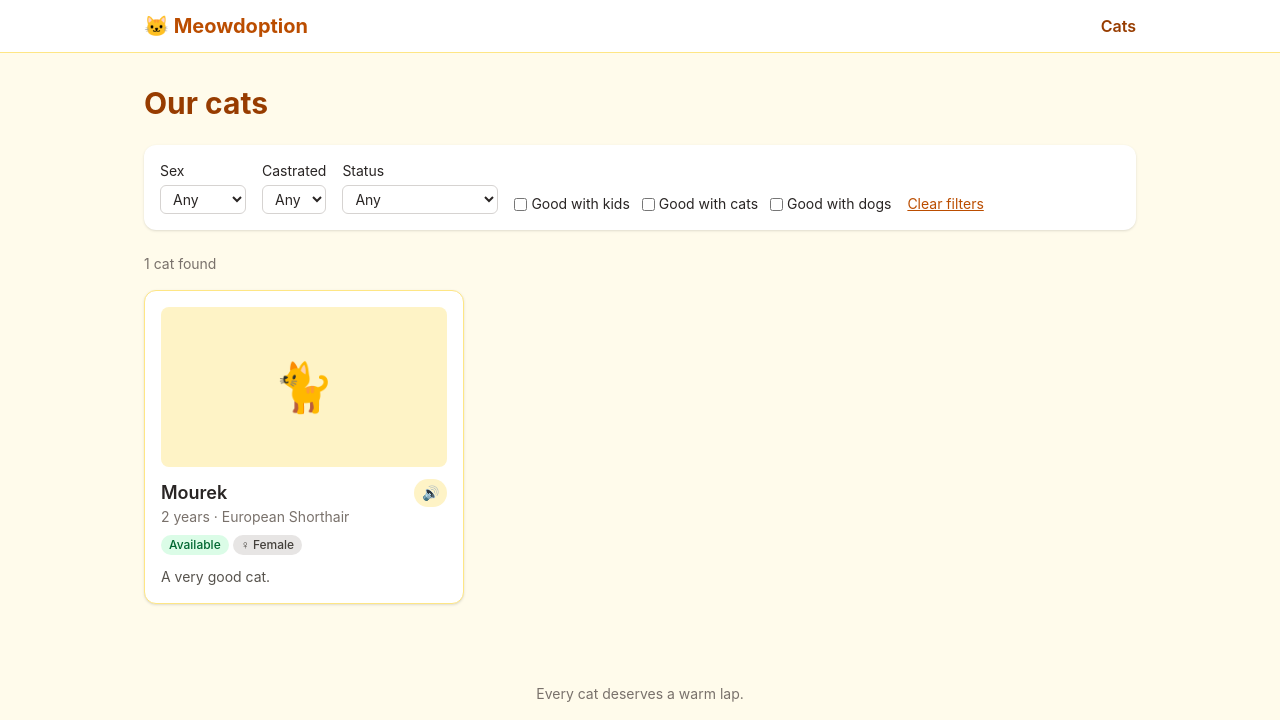
Test case: CatDetailPage › opens from a card in the list
The width and height of the screenshot is (1280, 720).
Click the link "Mourek" at coordinates (194, 492), box [161,482,227,503]
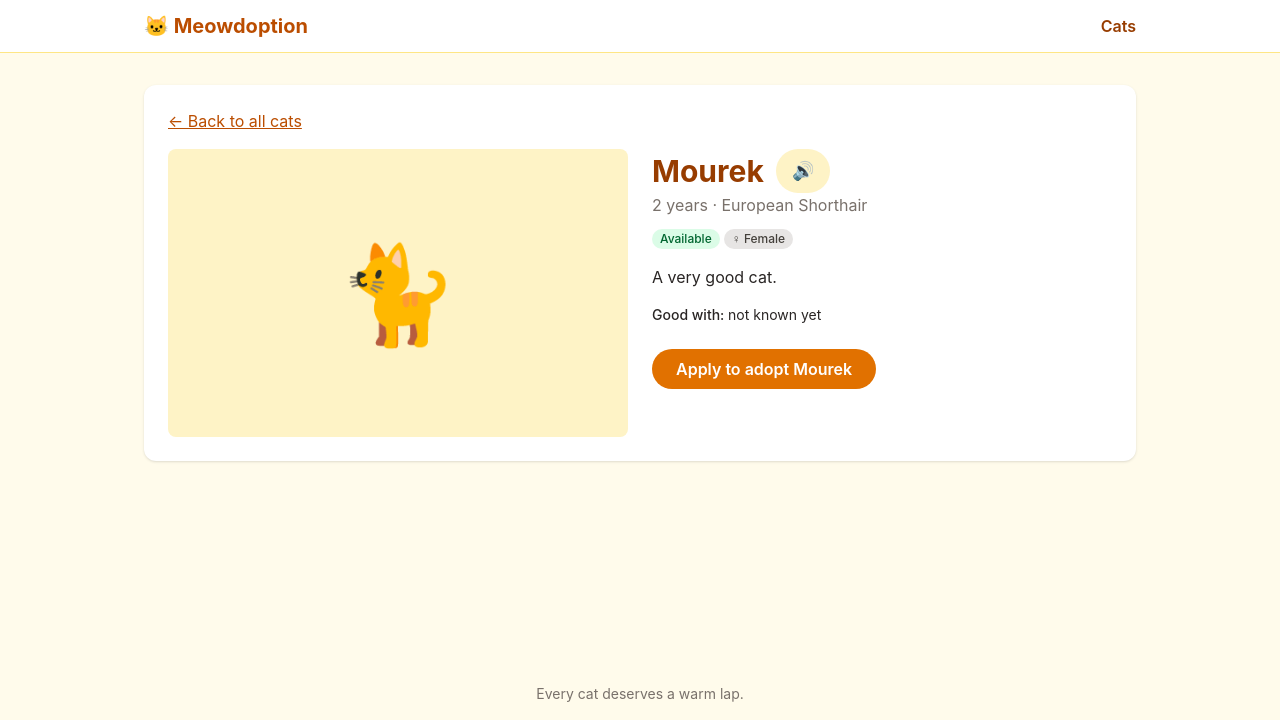
Check: the heading "Mourek" is shown, box [652,153,764,189]
